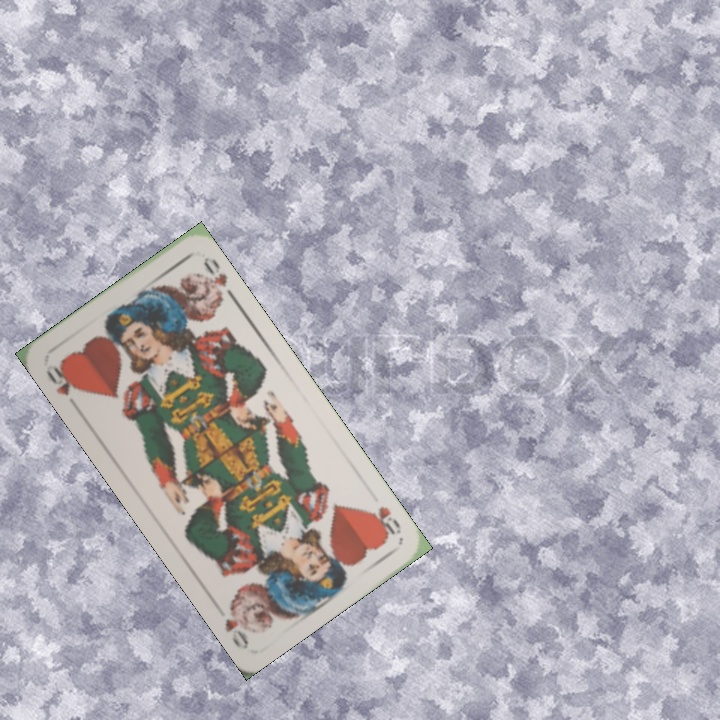HO: (41, 360, 83, 413), (362, 501, 404, 541)
